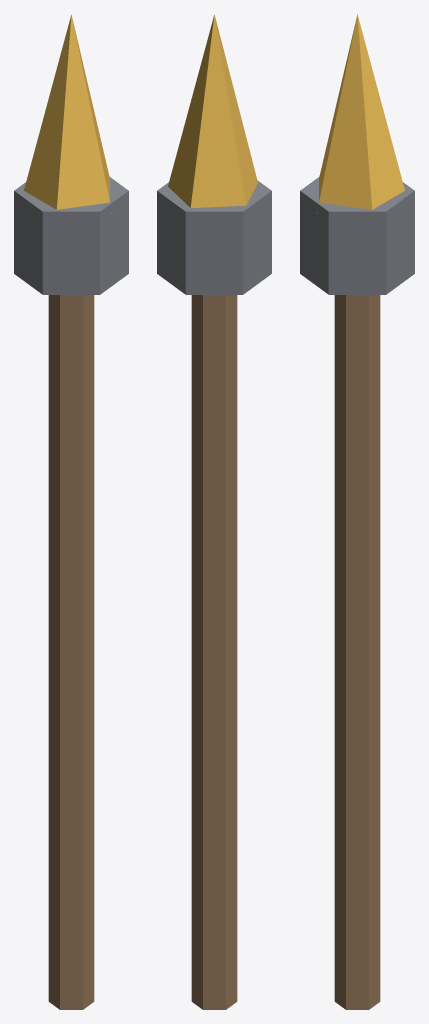
Rendered from Torch.fbx.
The picture shows the model from 3 angles, left to right: view 1: azimuth 90°, elevation 25°; view 2: azimuth 150°, elevation 25°; view 3: azimuth 270°, elevation 25°; orthographic projection.
Parts seen in each view (by area): view 1: Body; view 2: Body; view 3: Body.
Boxes of the visible parts, x1,y1,x2,y2 form: Body: (14,14,128,1009); Body: (157,14,271,1009); Body: (300,14,414,1009).
Size of the model in its own units: 0.2165 by 2.38 by 0.25.
